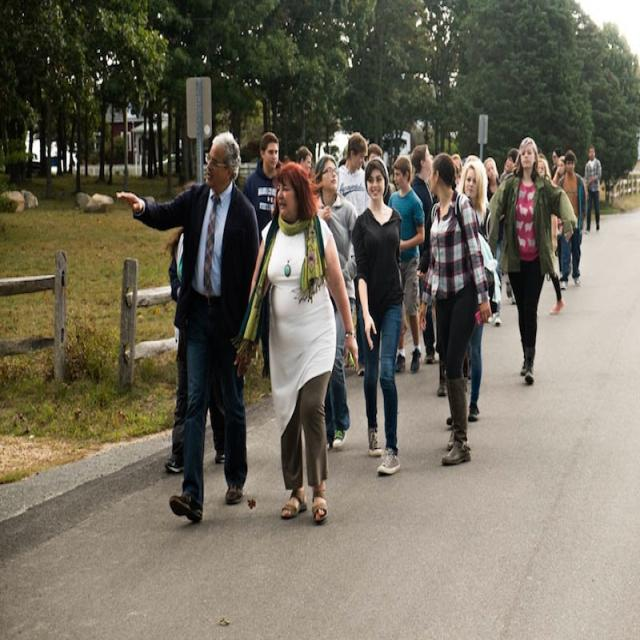body: (115, 131, 262, 523), (230, 159, 361, 527), (414, 146, 500, 468), (482, 132, 580, 387), (350, 152, 407, 482), (164, 222, 226, 474), (312, 151, 358, 453), (240, 128, 284, 382), (384, 152, 426, 378), (456, 152, 490, 422), (409, 142, 438, 365), (536, 156, 566, 316), (558, 147, 586, 290), (335, 128, 371, 218), (584, 142, 602, 232), (448, 146, 482, 182), (294, 144, 318, 181), (483, 156, 501, 204), (498, 146, 520, 185), (366, 139, 396, 160), (550, 146, 562, 179), (557, 154, 566, 176), (534, 149, 550, 158)
